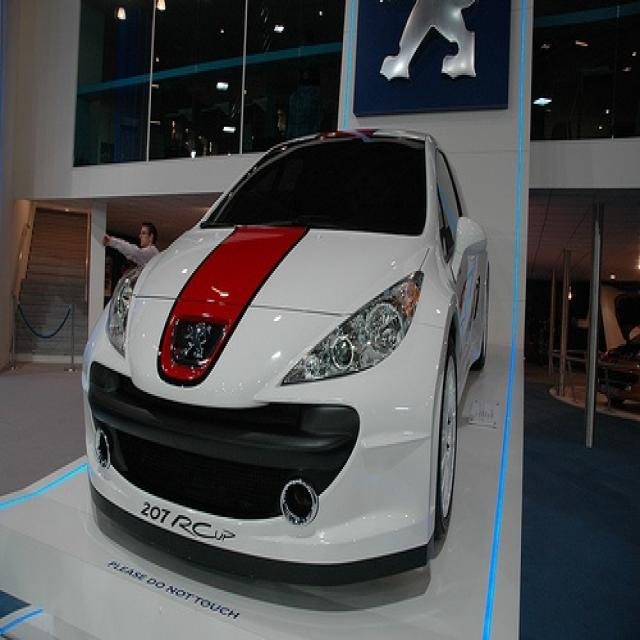car: (78, 125, 494, 588)
